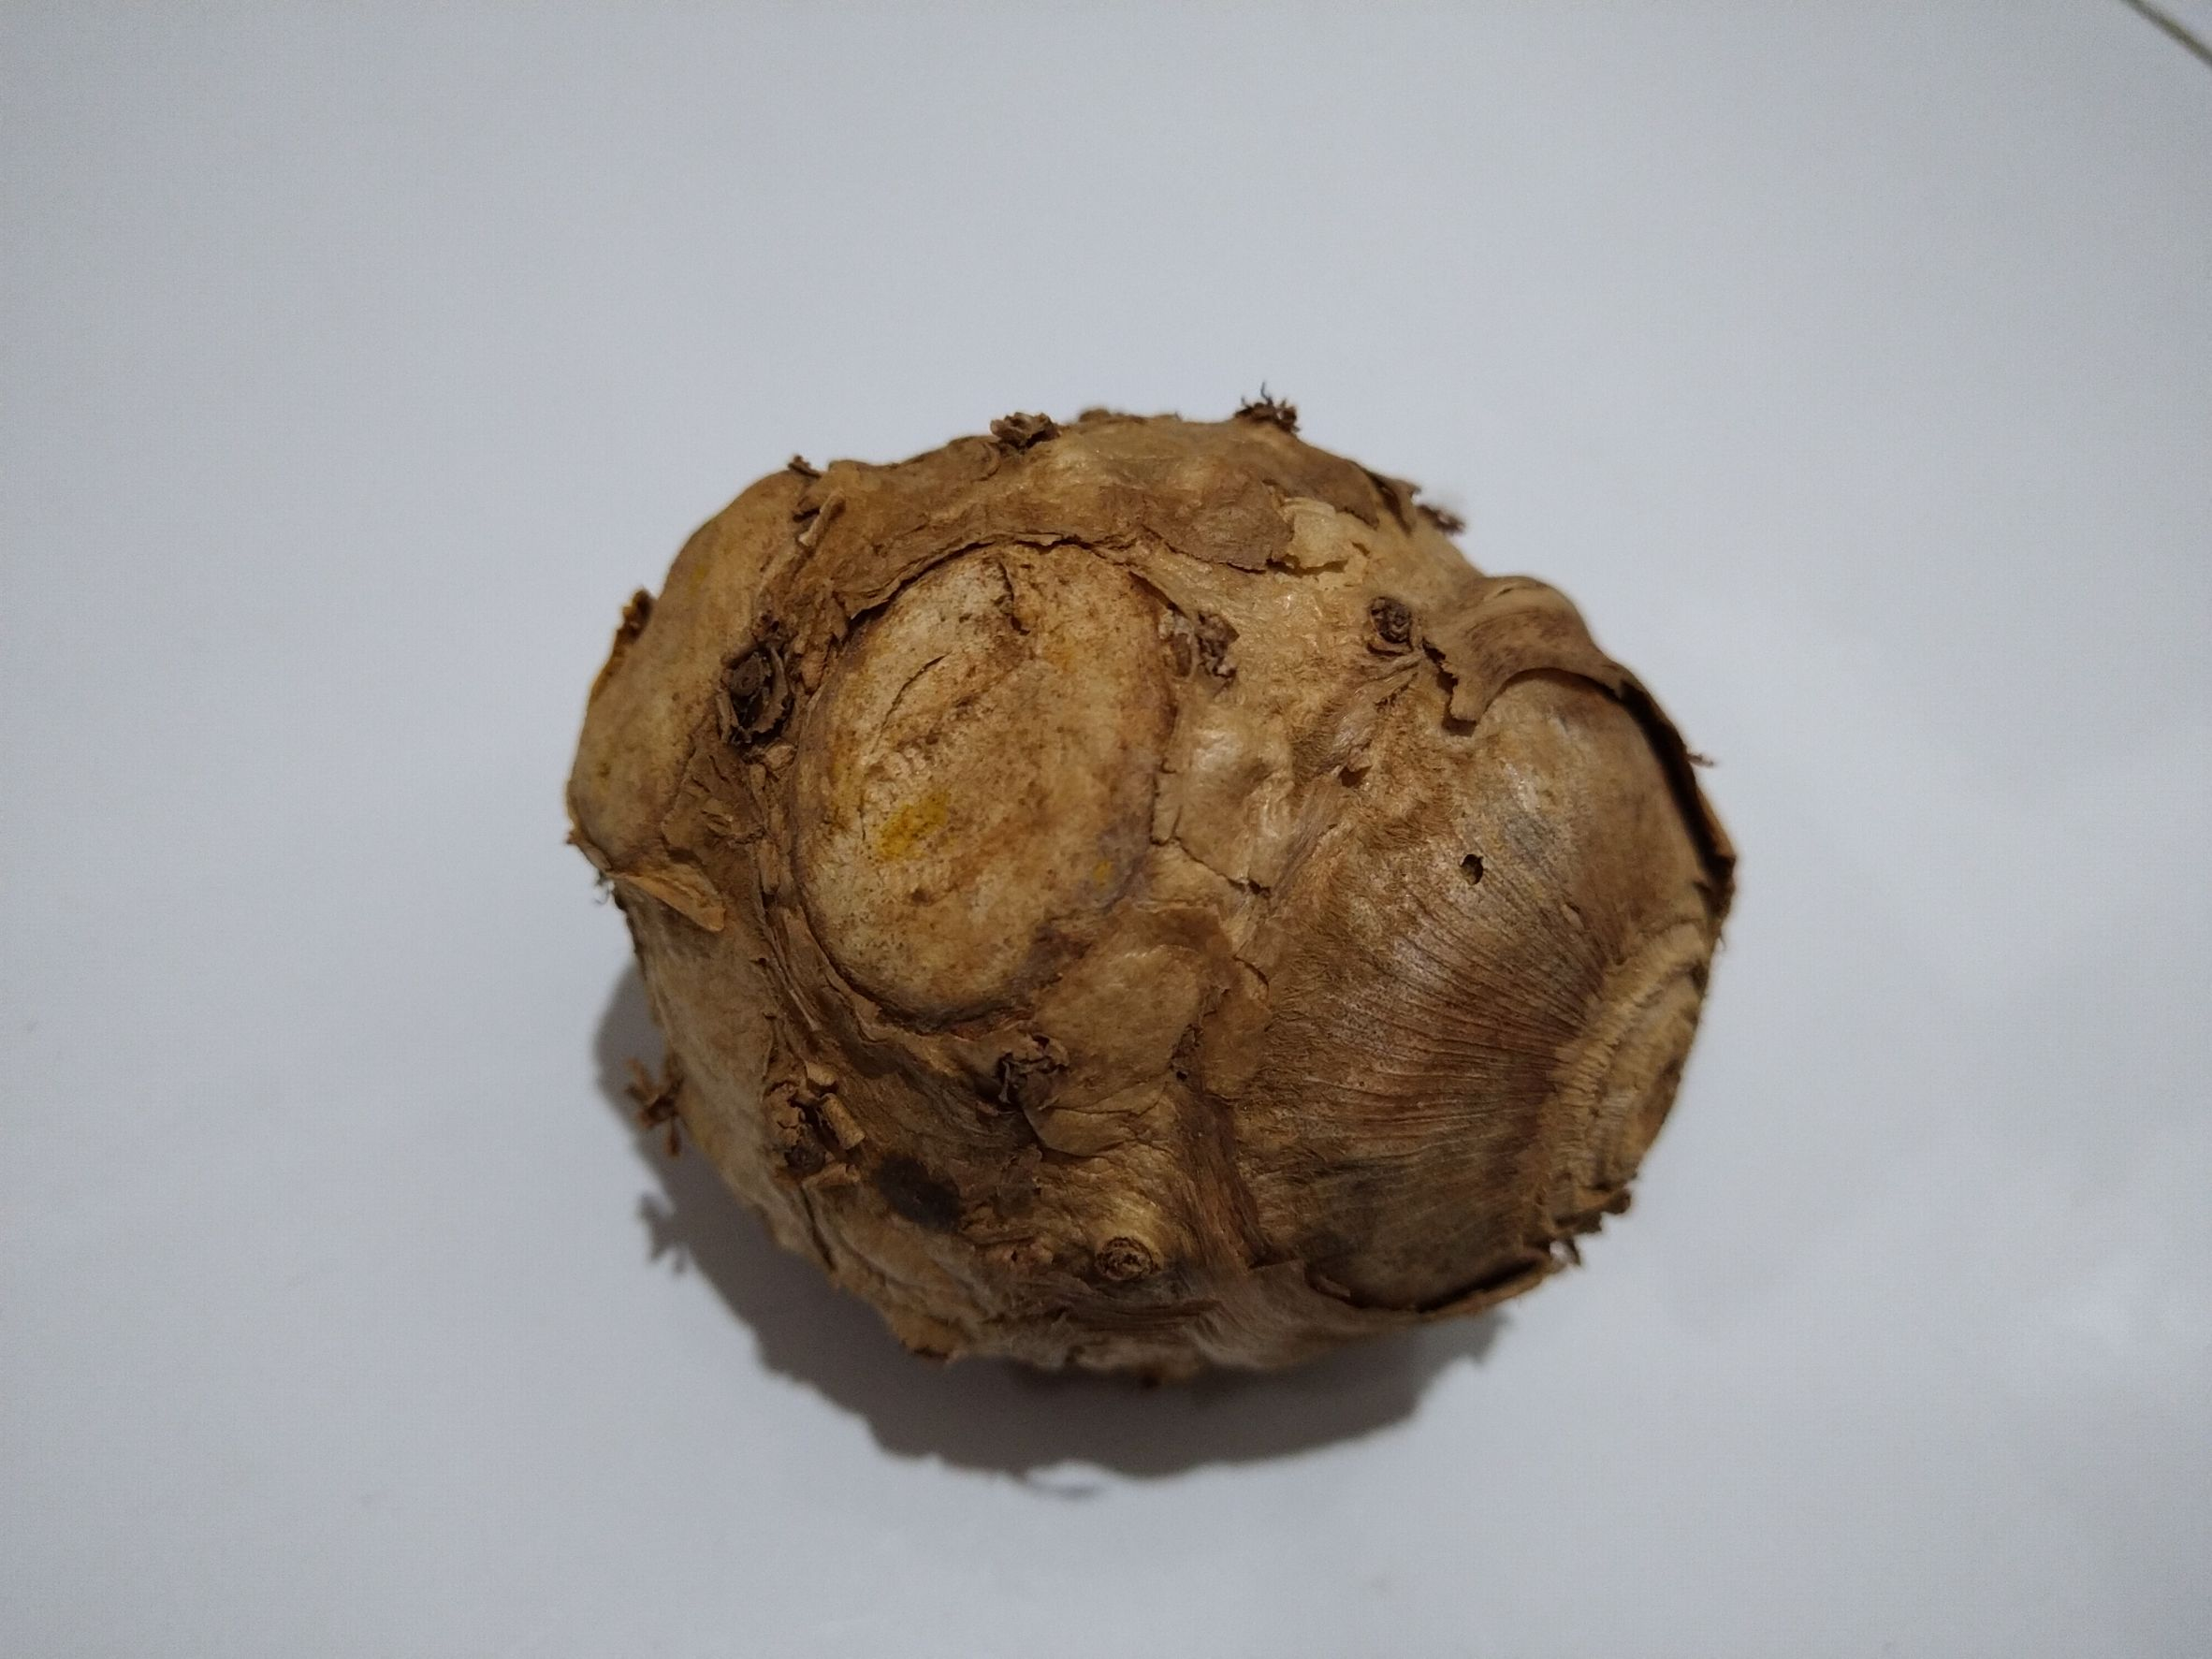Temulawak: (573, 399, 1750, 1453)
